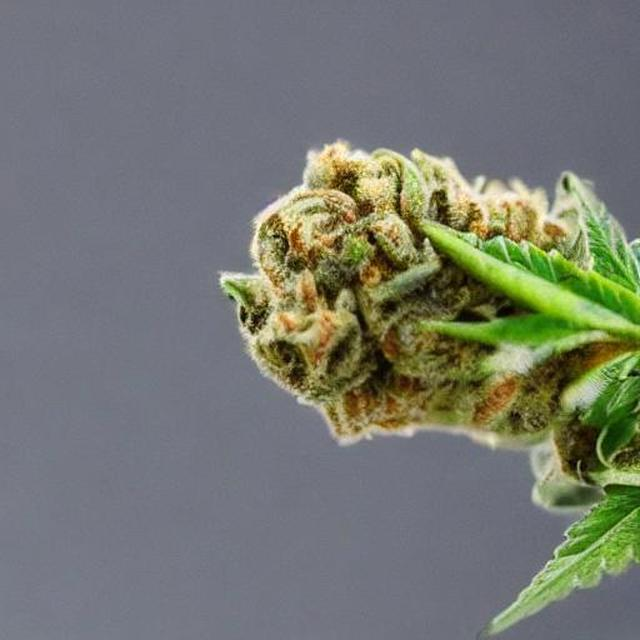Marijuana Plant: (200, 124, 640, 492)
